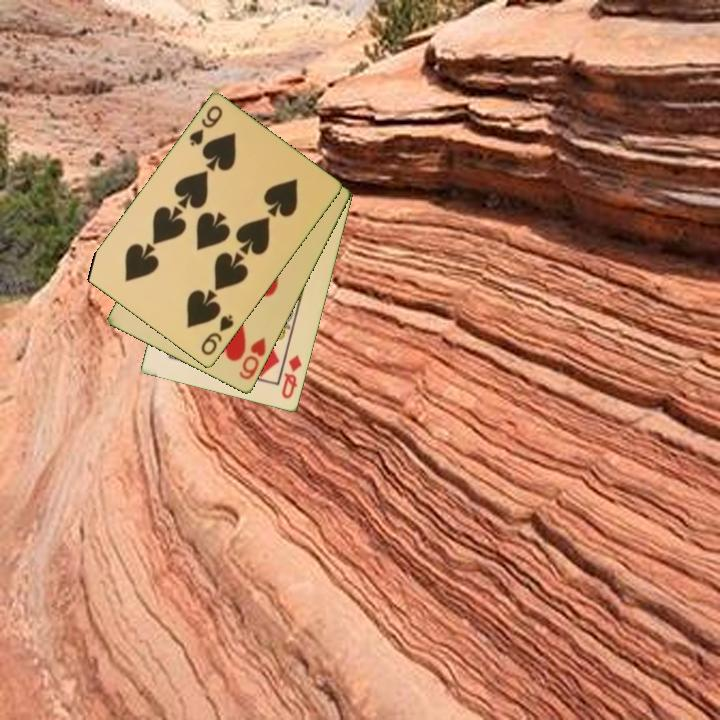6h: (235, 334, 269, 383)
9s: (197, 311, 237, 359), (186, 102, 226, 150)
Qd: (278, 351, 305, 402)
